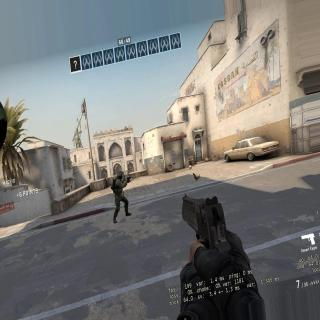CT-Body: (112, 169, 131, 219)
CT-Head: (117, 170, 124, 179)
